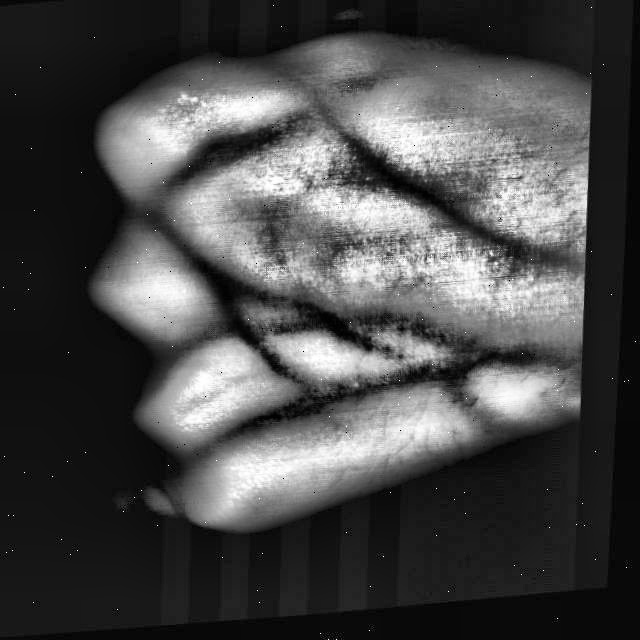Vein: (336, 336, 560, 409)
